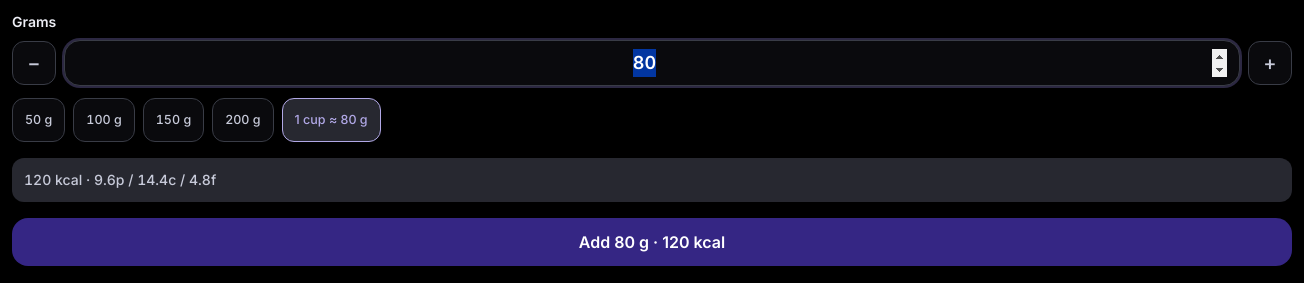
PortionStep › a fixed quick-adjust chip (e.g. 150 g) fills the field and updates the preview
The image size is (1304, 283).
Click the button with test id "gram-chip-150" at (173, 120), box [143,98,204,142]
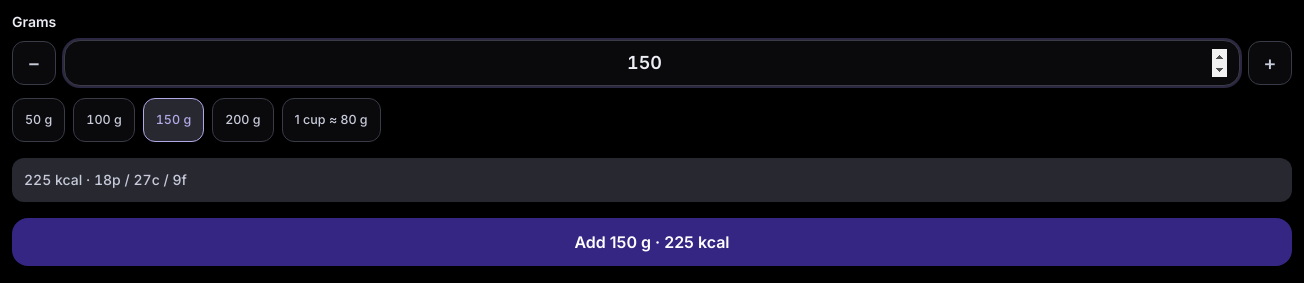
Check: the number field with test id "portion-grams-input" holds "150", box [64,40,1240,86]
Check: the text with test id "entry-preview" reads "225 kcal · 18p / 27c / 9f", box [12,158,1292,202]
